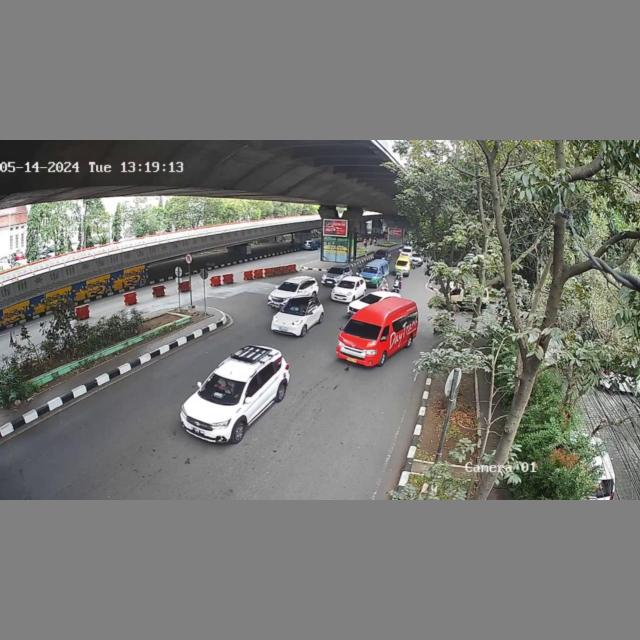windshield: (199, 372, 246, 403), (279, 299, 310, 317)
